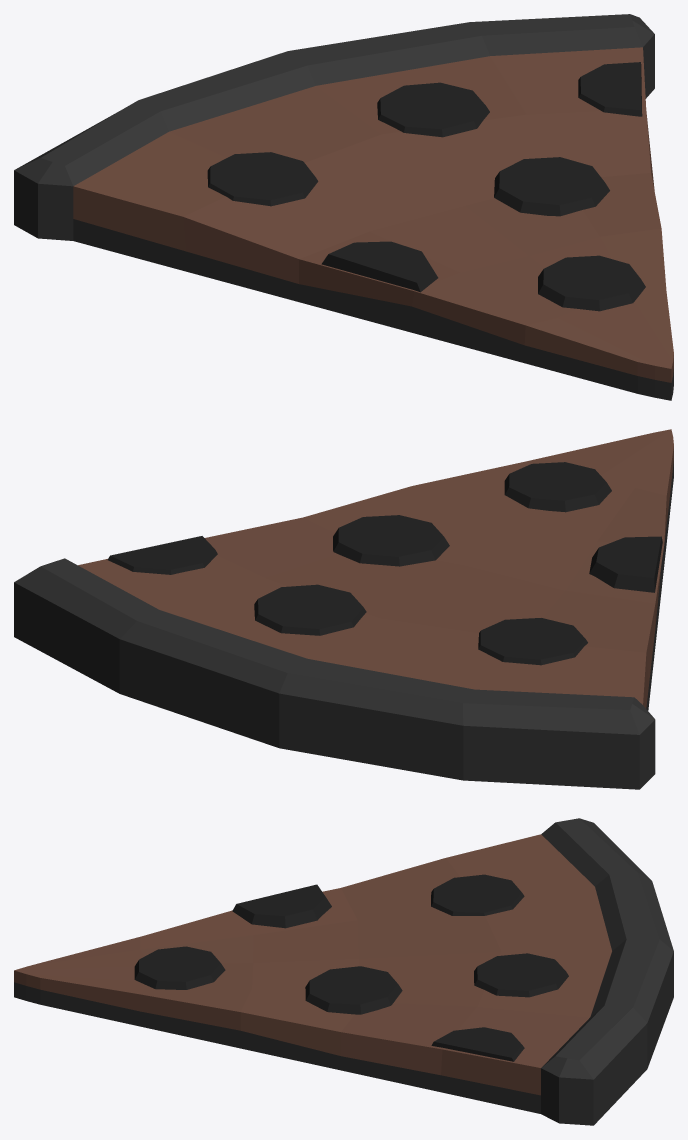
The model's file is Pizza_Burned.glb.
3 views of the same model, one above another, from view 1: azimuth 30°, elevation 25°; view 2: azimuth 150°, elevation 25°; view 3: azimuth 270°, elevation 25° (orthographic). The views are drawn at different scales.
Visible parts, largest first — view 1: Pizza_Burned; view 2: Pizza_Burned; view 3: Pizza_Burned.
Boxes of the visible parts, x1,y1,x2,y2 form: Pizza_Burned: (14,14,673,400); Pizza_Burned: (14,429,673,789); Pizza_Burned: (14,818,673,1125).
Bounding box in the file's own units: 1.07 × 0.1128 × 1.16.
